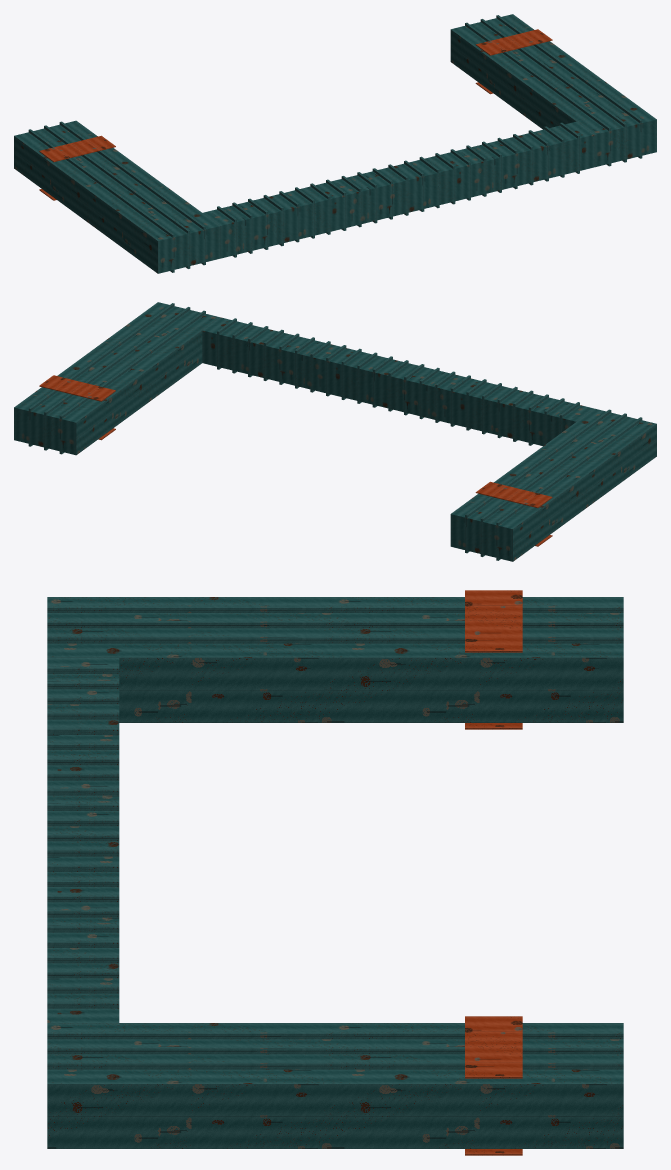
The model's file is corrugated_garage-pristine.obj.
3 renders of one model, top to bottom at view 1: azimuth 30°, elevation 25°; view 2: azimuth 150°, elevation 25°; view 3: azimuth 270°, elevation 25°, orthographic. The views are drawn at different scales.
Visible parts, largest first — view 1: corrugated_garage.Pristine; view 2: corrugated_garage.Pristine; view 3: corrugated_garage.Pristine.
Part boxes in pixels (bbox=[...]): corrugated_garage.Pristine: bbox=[14, 14, 656, 273]; corrugated_garage.Pristine: bbox=[14, 302, 656, 561]; corrugated_garage.Pristine: bbox=[47, 590, 623, 1155].
Size of the model in its own units: 16 by 1.21 by 8.
Materials: 2 (2 with a texture image).
